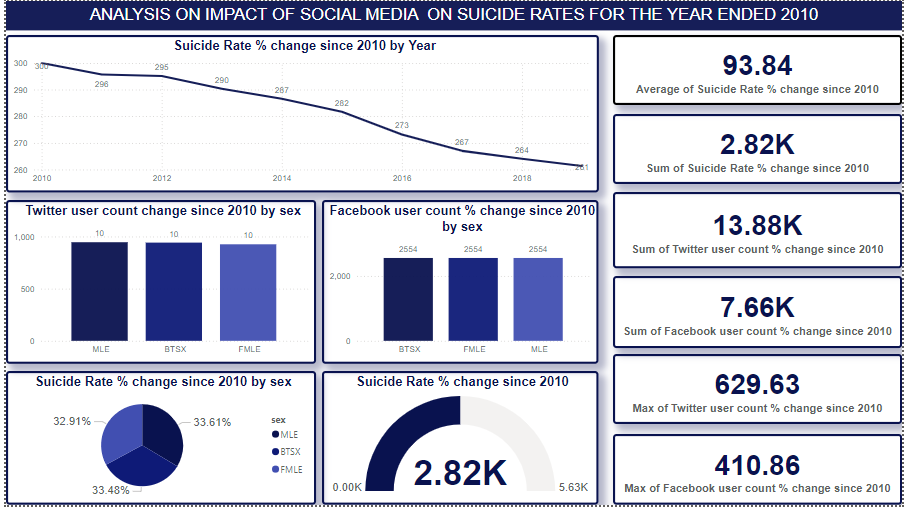

Layout of this report page (visuals, bound fields, positions):
{"tool":"powerbi","page":{"name":"Page 1","canvas":[1280,720],"ordinal":0},"visuals":[{"type":"textbox","box":[0,0,1279.7,41.9],"z":0},{"type":"columnChart","title":"Twitter user count change since 2010 by sex","fields":{"Category":["social-media-impact-on-suicide-.sex"],"Y":["Sum(social-media-impact-on-suicide-.Suicide Rate % change since 2010)"]},"box":[0,284.8,443,234.2],"z":1000},{"type":"lineChart","title":"Suicide Rate % change since 2010 by Year","fields":{"Category":["social-media-impact-on-suicide-.year"],"Y":["Sum(social-media-impact-on-suicide-.Suicide Rate % change since 2010)"]},"box":[0,48.5,867.2,225.8],"z":2000},{"type":"columnChart","title":"Facebook user count % change since 2010 by sex","fields":{"Y":["Sum(social-media-impact-on-suicide-.Facebook user count % change since 2010)"],"Category":["social-media-impact-on-suicide-.sex"]},"box":[451.9,284.8,394.9,234.2],"z":3000},{"type":"gauge","title":"Suicide Rate % change since 2010","fields":{"Y":["Sum(social-media-impact-on-suicide-.Suicide Rate % change since 2010)"]},"box":[451.9,529.1,394.9,191.1],"z":4000},{"type":"card","fields":{"Values":["Avg(social-media-impact-on-suicide-.Suicide Rate % change since 2010)"]},"box":[867.1,48.1,412.7,100],"z":5000},{"type":"card","fields":{"Values":["Max(social-media-impact-on-suicide-.Facebook user count % change since 2010)"]},"box":[867.1,619,412.7,101.3],"z":6000},{"type":"card","fields":{"Values":["Sum(social-media-impact-on-suicide-.Twitter user count % change since 2010)"]},"box":[867.1,273.4,412.7,108.9],"z":7000},{"type":"pieChart","title":"Suicide Rate % change since 2010 by sex","fields":{"Category":["social-media-impact-on-suicide-.sex"],"Y":["Sum(social-media-impact-on-suicide-.Suicide Rate % change since 2010)"]},"box":[0,529,443,191],"z":8000},{"type":"card","fields":{"Values":["Sum(social-media-impact-on-suicide-.Facebook user count % change since 2010)"]},"box":[867.1,392.4,412.7,102.5],"z":9000},{"type":"card","fields":{"Values":["Max(social-media-impact-on-suicide-.Twitter user count % change since 2010)"]},"box":[867.1,503.8,412.7,100],"z":10000},{"type":"card","fields":{"Values":["Sum(social-media-impact-on-suicide-.Suicide Rate % change since 2010)"]},"box":[867.1,160.8,412.7,100],"z":11000}]}

Visuals, with their boxes in screenshot pixels (x1, y1, x2, y2), scaled from the page's 1280x720 canvas onto the 909x510 screenshot:
textbox: 0:0:908:30
"Twitter user count change since 2010 by sex" columnChart: 0:202:315:368
"Suicide Rate % change since 2010 by Year" lineChart: 0:34:616:194
"Facebook user count % change since 2010 by sex" columnChart: 321:202:601:368
"Suicide Rate % change since 2010" gauge: 321:375:601:509
card - Avg(social-media-impact-on-suicide-.Suicide Rate % change since 2010): 616:34:908:105
card - Max(social-media-impact-on-suicide-.Facebook user count % change since 2010): 616:438:908:509
card - Sum(social-media-impact-on-suicide-.Twitter user count % change since 2010): 616:194:908:271
"Suicide Rate % change since 2010 by sex" pieChart: 0:375:315:509
card - Sum(social-media-impact-on-suicide-.Facebook user count % change since 2010): 616:278:908:351
card - Max(social-media-impact-on-suicide-.Twitter user count % change since 2010): 616:357:908:428
card - Sum(social-media-impact-on-suicide-.Suicide Rate % change since 2010): 616:114:908:185
